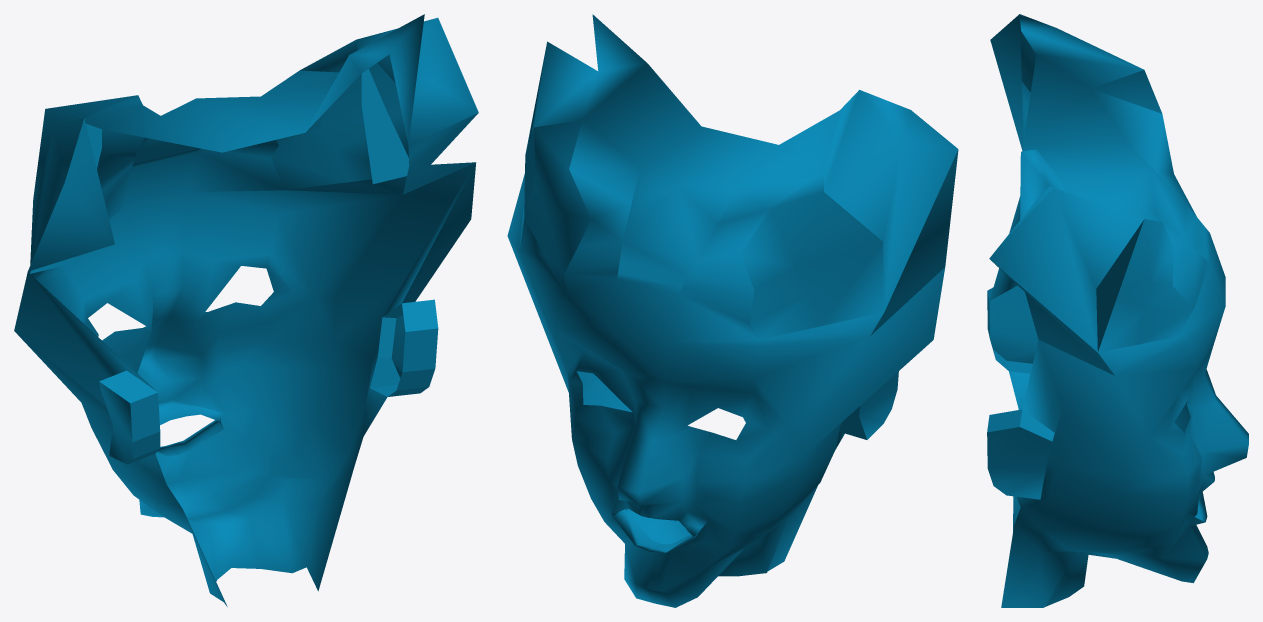
File: SM_B_Mask.fbx
The picture shows the model from 3 angles, left to right: view 1: azimuth 30°, elevation 25°; view 2: azimuth 150°, elevation 25°; view 3: azimuth 270°, elevation 25°; orthographic projection. The views are drawn at different scales.
Visible parts, largest first — view 1: SM_B_Mask; view 2: SM_B_Mask; view 3: SM_B_Mask.
Part boxes in pixels (<box>): SM_B_Mask: <box>14,14,478,606</box>; SM_B_Mask: <box>507,14,958,607</box>; SM_B_Mask: <box>987,14,1248,607</box>.
Bounding box in the file's own units: 25.96 × 29.64 × 13.67.
